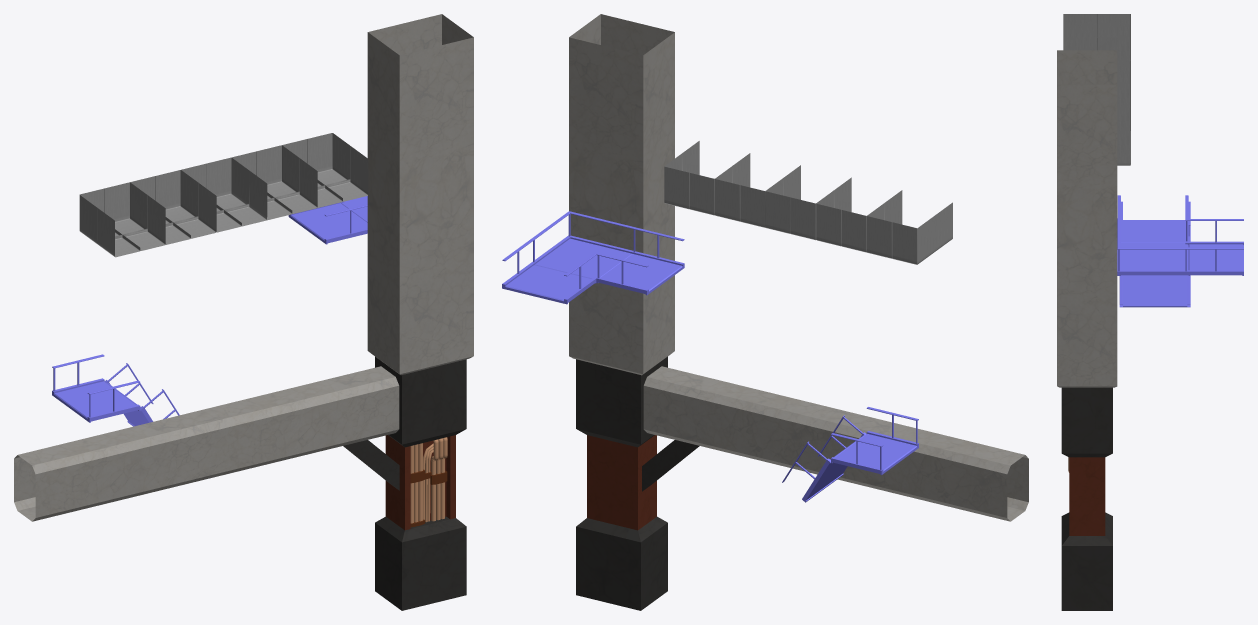
The model's file is PlatformGauge.fbx.
3 renders of one model, left to right at view 1: azimuth 30°, elevation 25°; view 2: azimuth 150°, elevation 25°; view 3: azimuth 270°, elevation 25°, orthographic. The views are drawn at different scales.
Parts seen in each view (by area): view 1: CornerPillar_4, Sidewalk__1__4, Sidewalk__1__6, Sidewalk__1__7, Sidewalk__1__5, CatwalkStraight_12, Sidewalk__2__3, Catwalk_Corner_3, CatwalkStraight_11; view 2: CornerPillar_4, Catwalk_Corner_3, Sidewalk__1__7, Sidewalk__1__6, Sidewalk__1__4, Sidewalk__1__5, CatwalkStraight_12, Sidewalk__2__3, CatwalkStraight_11; view 3: CornerPillar_4, Catwalk_Corner_3, Sidewalk__1__7, CatwalkStraight_11, Sidewalk__2__3, Sidewalk__1__4, Sidewalk__1__5.
Part boxes in pixels (x1=…): CornerPillar_4: x1=14, y1=14, x2=473, y2=610; Sidewalk__1__4: x1=282, y1=133, x2=368, y2=207; Sidewalk__1__6: x1=130, y1=170, x2=216, y2=244; Sidewalk__1__7: x1=79, y1=182, x2=165, y2=257; Sidewalk__1__5: x1=231, y1=145, x2=317, y2=220; CatwalkStraight_12: x1=52, y1=354, x2=140, y2=422; Sidewalk__2__3: x1=181, y1=157, x2=267, y2=232; Catwalk_Corner_3: x1=288, y1=196, x2=367, y2=244; CatwalkStraight_11: x1=104, y1=363, x2=179, y2=426; CornerPillar_4: x1=569, y1=14, x2=1028, y2=610; Catwalk_Corner_3: x1=502, y1=211, x2=684, y2=304; Sidewalk__1__7: x1=867, y1=202, x2=952, y2=264; Sidewalk__1__6: x1=816, y1=178, x2=902, y2=252; Sidewalk__1__4: x1=664, y1=141, x2=750, y2=215; Sidewalk__1__5: x1=715, y1=165, x2=800, y2=227; CatwalkStraight_12: x1=831, y1=407, x2=918, y2=475; Sidewalk__2__3: x1=765, y1=165, x2=851, y2=240; CatwalkStraight_11: x1=782, y1=415, x2=866, y2=502; CornerPillar_4: x1=1057, y1=50, x2=1117, y2=610; Catwalk_Corner_3: x1=1117, y1=195, x2=1243, y2=275; Sidewalk__1__7: x1=1063, y1=14, x2=1130, y2=60; CatwalkStraight_11: x1=1119, y1=275, x2=1190, y2=307; Sidewalk__2__3: x1=1117, y1=61, x2=1130, y2=107; Sidewalk__1__4: x1=1117, y1=108, x2=1130, y2=165; Sidewalk__1__5: x1=1117, y1=84, x2=1130, y2=130.
Size of the model in its own units: 1431 by 1763 by 565.
Materials: 4 (4 with a texture image).
